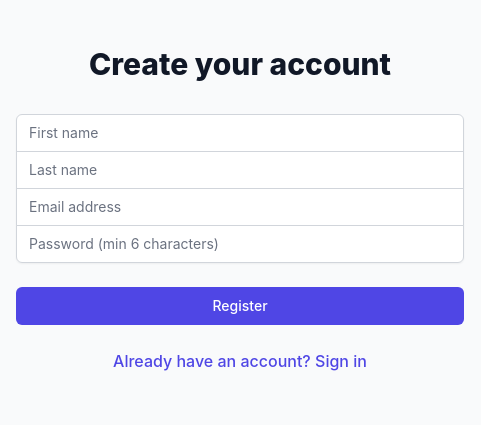
Test: Register › should show error for 400 bad request
Type "John" into the field with placeholder "First name" at (240, 132), box [16,114,464,152]
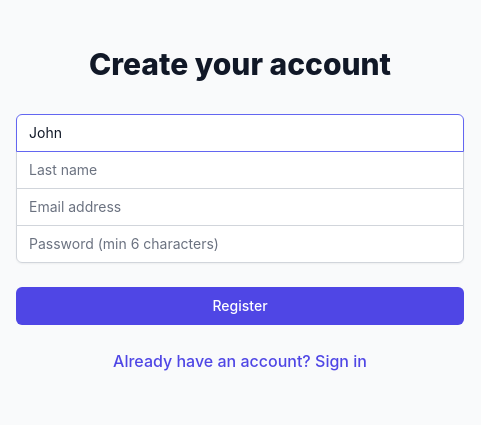
Type "Doe" into the field with placeholder "Last name" at (240, 170), box [16,150,464,188]
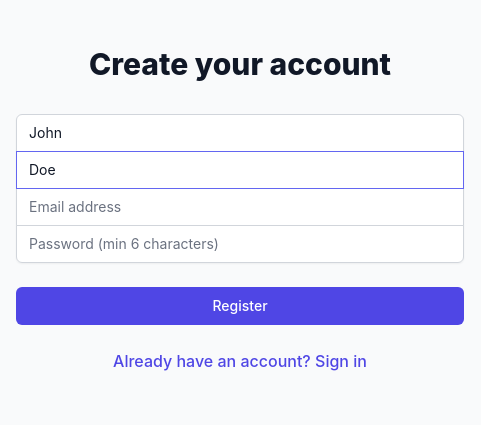
Type "john@example.com" into the field with placeholder "Email address" at (240, 206), box [16,188,464,226]
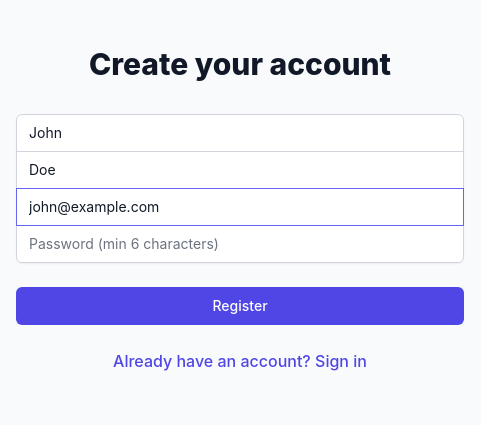
Type "password1" into the password field with placeholder "Password (min 6 characters)" at (240, 244), box [16,224,464,262]
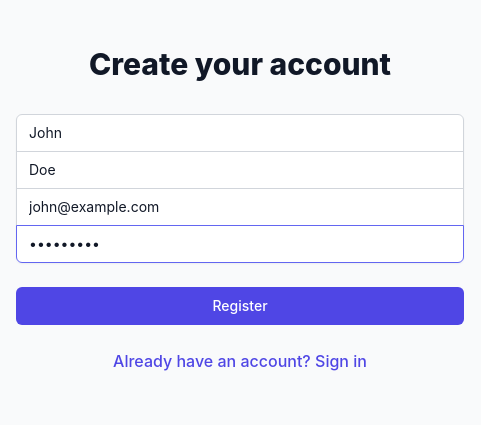
Click the button "Register" at (240, 306), box [16,286,464,324]
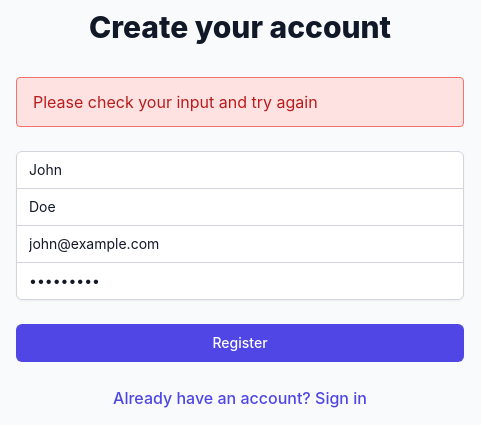
Result: the text "Please check your input and try again" is shown at [16,76,464,126]
